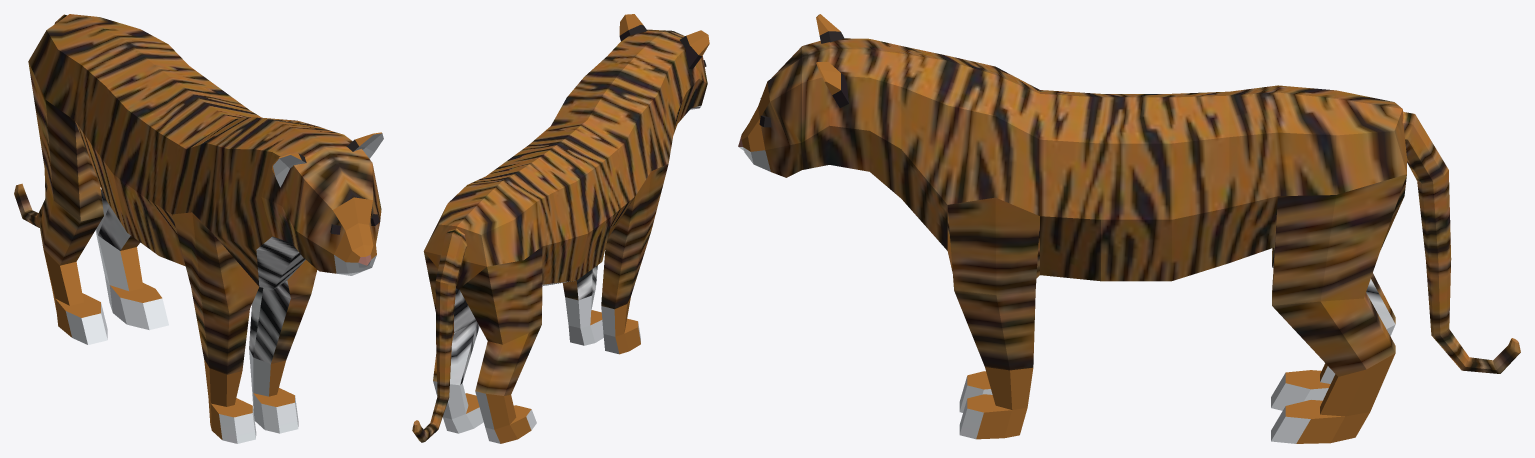
File: animals-tiger-197.glb
The picture shows the model from 3 angles, left to right: view 1: azimuth 30°, elevation 25°; view 2: azimuth 150°, elevation 25°; view 3: azimuth 270°, elevation 25°; orthographic projection. The views are drawn at different scales.
Parts seen in each view (by area): view 1: Geo_BengalTiger; view 2: Geo_BengalTiger; view 3: Geo_BengalTiger.
Part boxes in pixels (x1,y1,x2,y2): Geo_BengalTiger: (14, 14, 383, 443); Geo_BengalTiger: (412, 14, 709, 443); Geo_BengalTiger: (738, 14, 1520, 443).
Bounding box in the file's own units: 45.11 × 123 × 230.
1 material, 1 textured.
